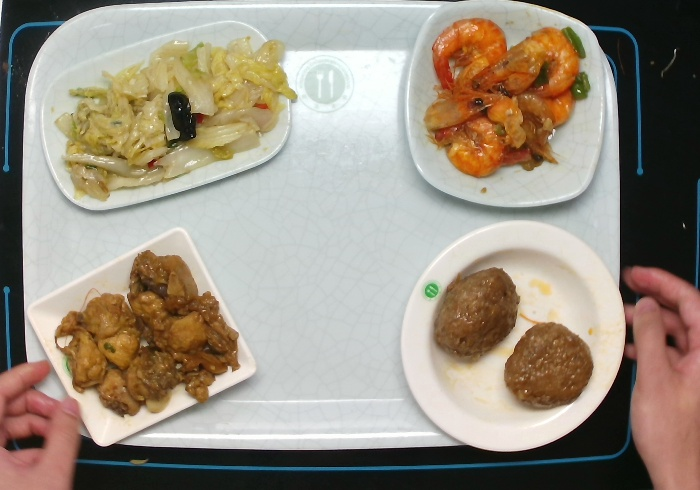WCQzf-Bai_Se_Si_Fang_Die: (26, 225, 255, 447)
WCQzf-Da_Si_Fang_Die: (402, 1, 608, 213)
WCQzf-Kuan_Bian_Yuan_Die: (394, 216, 628, 458)
WCQzf-Tuo_Yuan_Pan: (37, 18, 294, 217)
